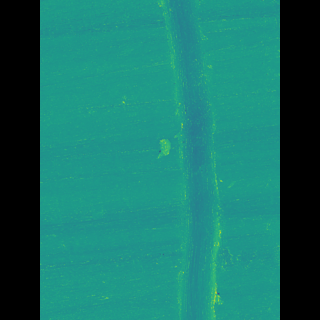Loch: (156, 0, 207, 320), (156, 134, 169, 164)
